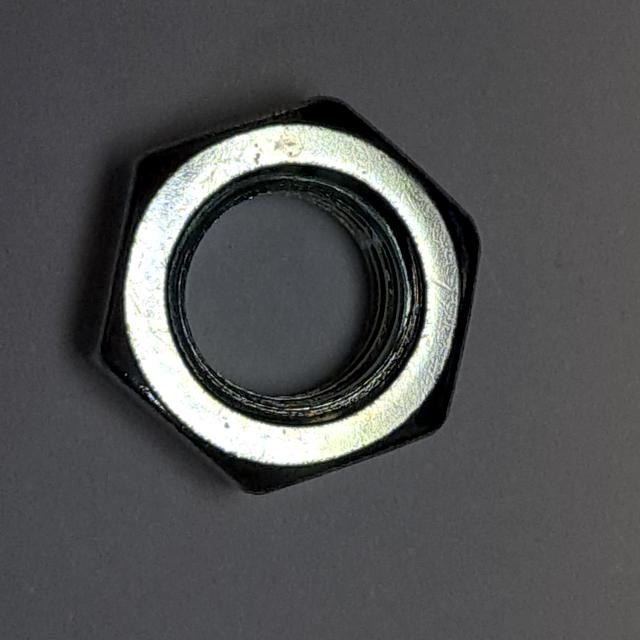Excellent: (68, 84, 493, 503)
